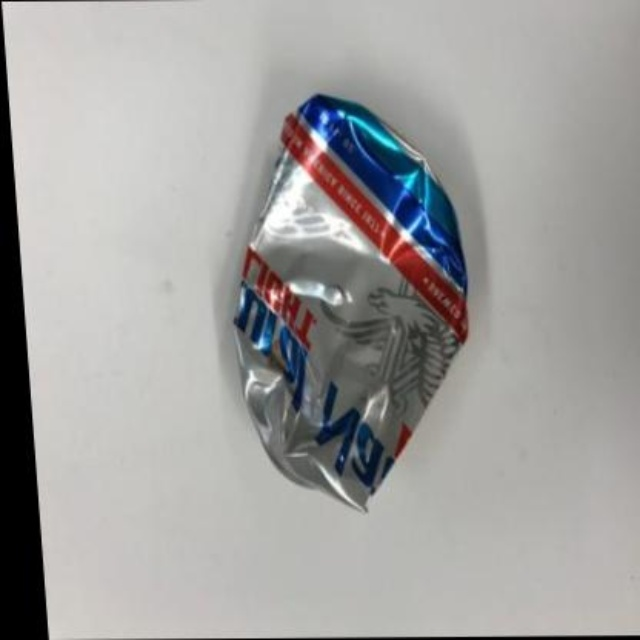trash: (234, 94, 466, 509)
